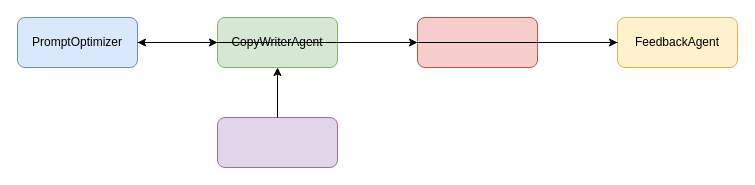
Image size: 755x185. Some labels were removed from this diagram. Each missing label, with the box of its shape:
ABTesterAgent: (416, 16, 538, 68)
Product info: (216, 116, 338, 168)
